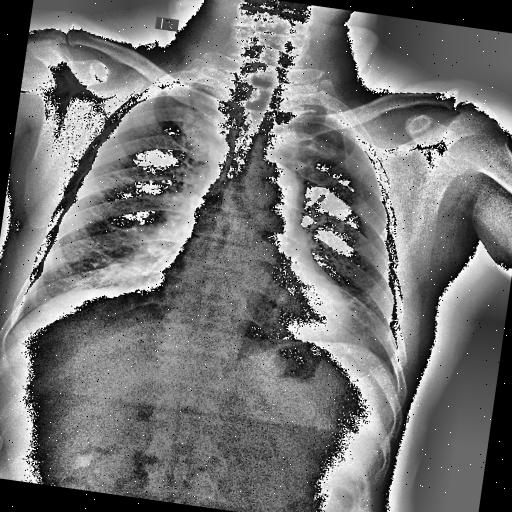0- Aortic enlargement: (236, 155, 310, 230), (246, 160, 305, 228), (253, 158, 305, 216)
11- Pleural thickening: (284, 100, 350, 124), (170, 77, 228, 100)
3- Cardiomegaly: (154, 259, 356, 349), (155, 253, 352, 341)
